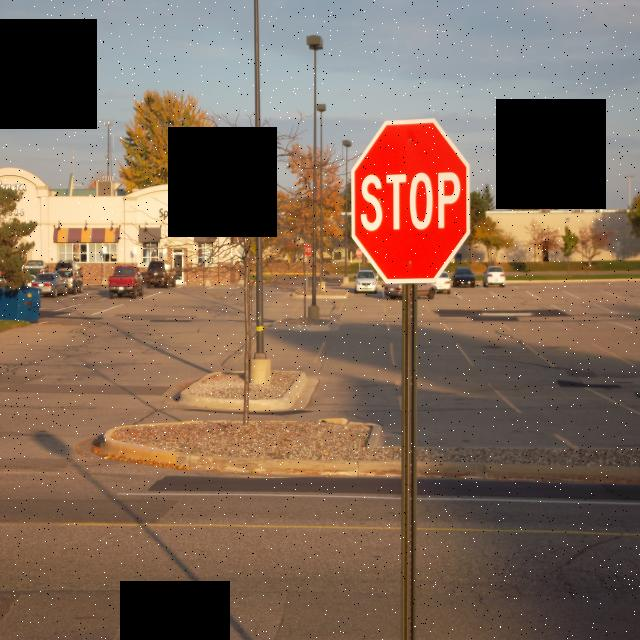stop: (350, 118, 470, 288)
